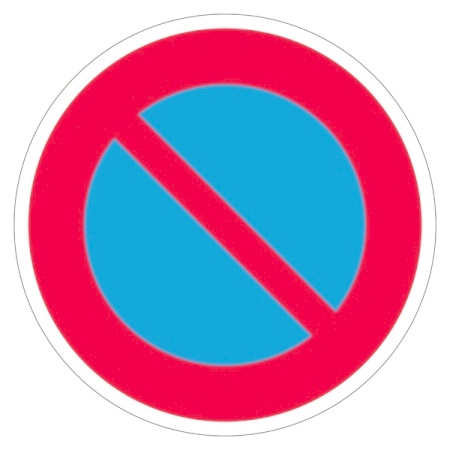Prohibition_sign: (3, 1, 447, 447)
